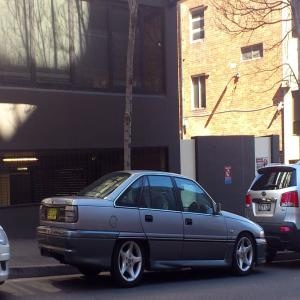Vehicle-registration-plate: (259, 205, 272, 213), (50, 210, 58, 220)
